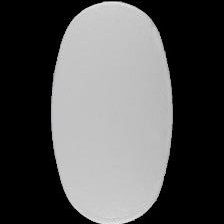51079-209: (0, 0, 224, 224)
